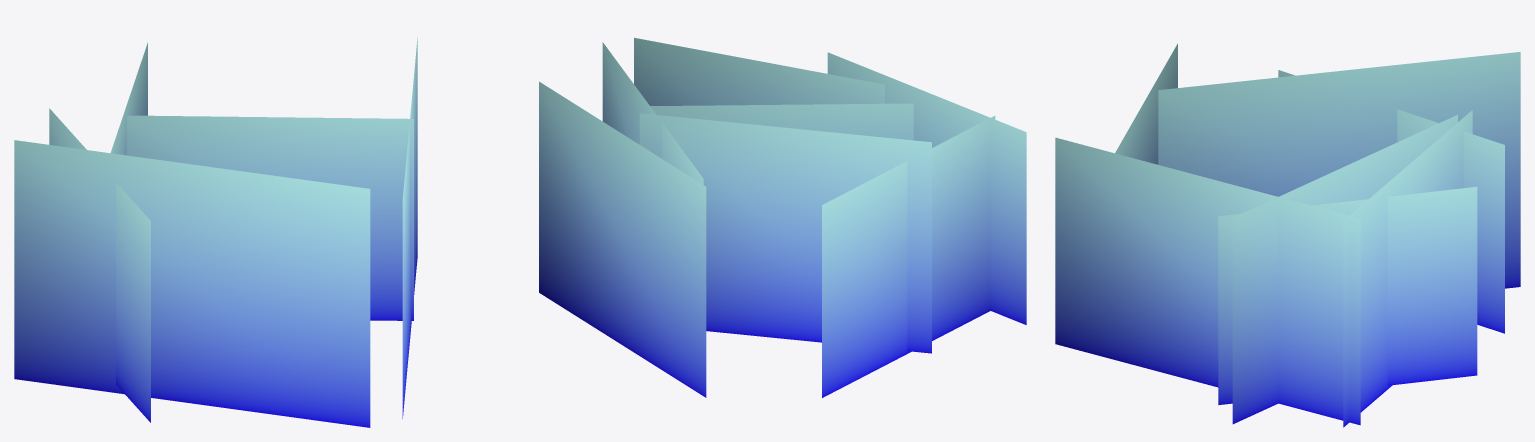
The model's file is SM_Env_Grass_Tall_Clump_03.glb.
The picture shows the model from 3 angles, left to right: view 1: azimuth 30°, elevation 25°; view 2: azimuth 150°, elevation 25°; view 3: azimuth 270°, elevation 25°; orthographic projection. The views are drawn at different scales.
Visible parts, largest first — view 1: SM_Env_Grass_Tall_Clump_03_LOD0; view 2: SM_Env_Grass_Tall_Clump_03_LOD0; view 3: SM_Env_Grass_Tall_Clump_03_LOD0.
Boxes of the visible parts, x1,y1,x2,y2 form: SM_Env_Grass_Tall_Clump_03_LOD0: [14, 37, 417, 427]; SM_Env_Grass_Tall_Clump_03_LOD0: [539, 37, 1026, 397]; SM_Env_Grass_Tall_Clump_03_LOD0: [1055, 43, 1520, 427].
Size of what is drawn, in the model's own units: 1.72 by 0.9937 by 1.73.
